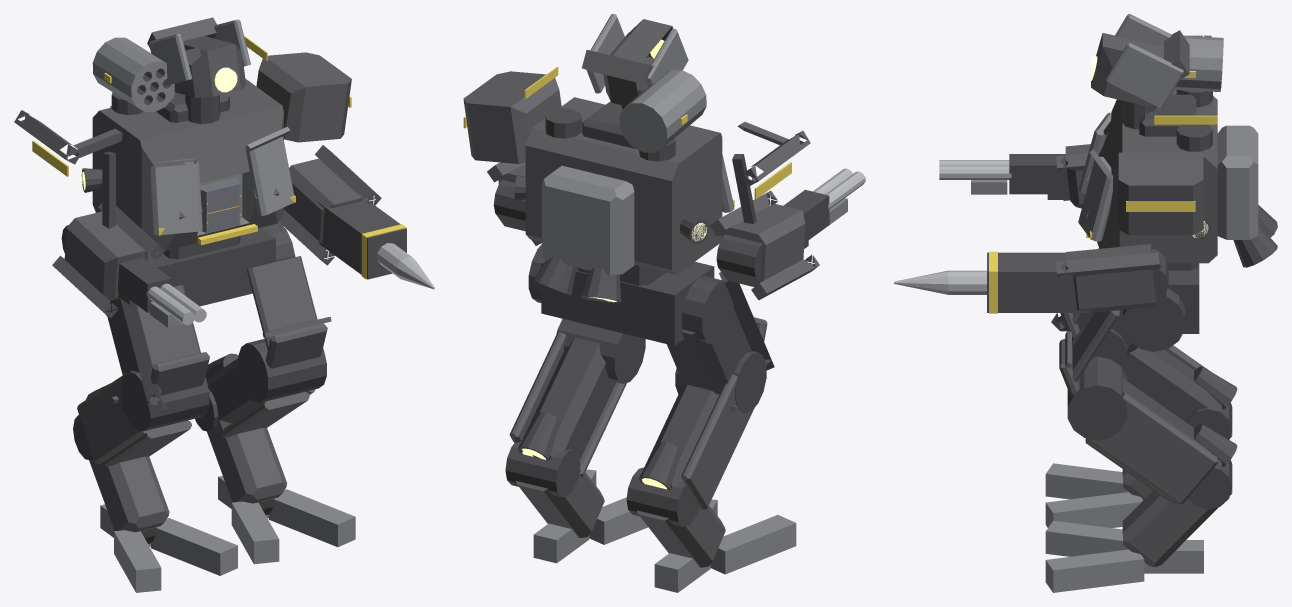
Rendered from hatchet.glb.
The picture shows the model from 3 angles, left to right: view 1: azimuth 30°, elevation 25°; view 2: azimuth 150°, elevation 25°; view 3: azimuth 270°, elevation 25°; orthographic projection. The views are drawn at different scales.
Visible parts, largest first — view 1: core, shoulder1, forearm-1, forearm1, hips, meta1, meta-1, pile1_housing, rockets-1, thigh1_front, helm, pec-1 (+31 smaller); view 2: core, pack, hips, shoulder1, shin1, forearm-1, thigh-1, rockets-1, shin-1_out, helm, claw-11, meta1 (+30 smaller); view 3: core, shoulder1, shin1_out, forearm1, pack, pile1_housing, meta1, knee1, shin-1, claw10, fin1, helm (+33 smaller).
Part boxes in pixels (x1,y1,x2,y2): core: (92, 78, 283, 250); shoulder1: (256, 52, 351, 142); forearm-1: (52, 203, 164, 318); forearm1: (279, 145, 381, 265); hips: (147, 227, 275, 306); meta1: (207, 418, 287, 503); meta-1: (89, 456, 169, 532); pile1_housing: (316, 193, 406, 279); rockets-1: (92, 37, 175, 111); thigh1_front: (246, 256, 317, 350); helm: (147, 17, 245, 97); pec-1: (150, 158, 202, 235); core: (525, 97, 722, 274); pack: (542, 165, 634, 275); hips: (541, 260, 714, 345); shoulder1: (463, 71, 561, 163); shin1: (523, 337, 616, 460); forearm-1: (710, 190, 819, 300); thigh-1: (666, 272, 774, 394); rockets-1: (619, 70, 706, 152); shin-1_out: (681, 374, 754, 509); helm: (582, 19, 672, 105); claw-11: (710, 515, 796, 574); meta1: (516, 469, 604, 537); core: (1086, 89, 1217, 263); shoulder1: (1118, 152, 1203, 235); shin1_out: (1086, 392, 1217, 504); forearm1: (1056, 244, 1166, 313); pack: (1217, 125, 1258, 239); pile1_housing: (987, 252, 1090, 312); meta1: (1122, 488, 1232, 566); knee1: (1067, 356, 1127, 440); shin-1: (1123, 347, 1222, 422); claw10: (1045, 549, 1144, 592); fin1: (1106, 42, 1183, 108); helm: (1091, 30, 1189, 107).
Bounding box in the file's own units: 15.1 × 24.89 × 16.96.
